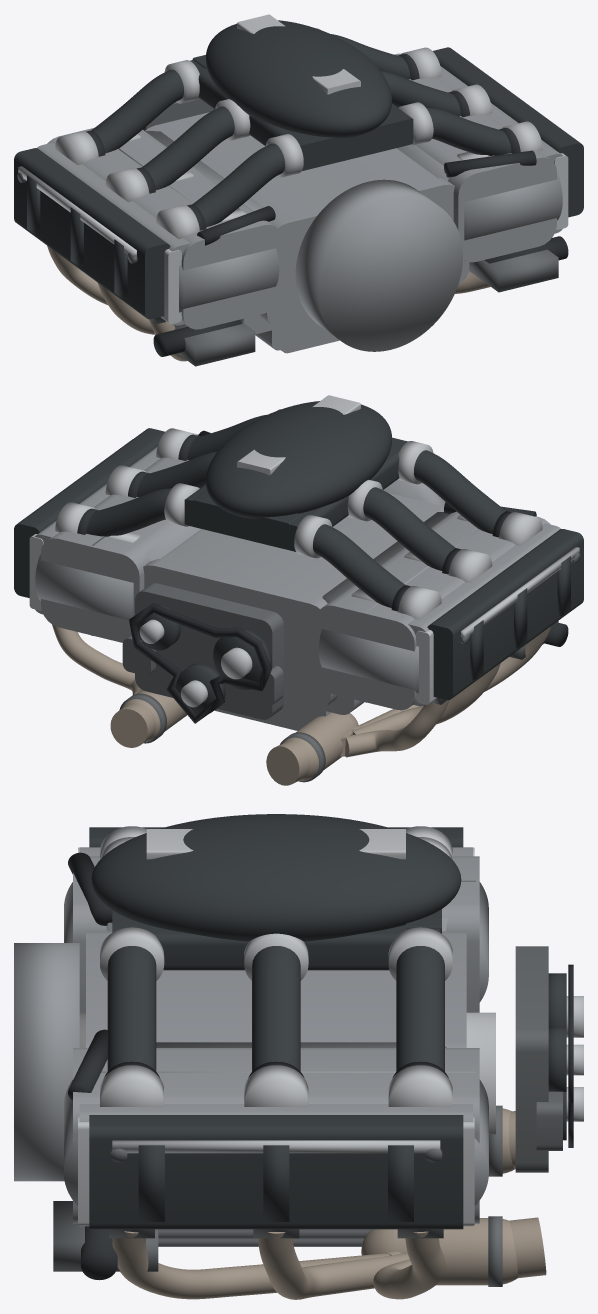
File: engine.glb
The picture shows the model from 3 angles, top to bottom: view 1: azimuth 30°, elevation 25°; view 2: azimuth 150°, elevation 25°; view 3: azimuth 270°, elevation 25°; orthographic projection. The views are drawn at different scales.
Parts seen in each view (by area): view 1: Intake, Crankcase__flywheel_housing, Intake__plenum_shell, Crankcase__main_case, Cover_R__main_cover, Bank_R__water_jacket, Bank_L__water_jacket, Intake__plenum_lower_bridge, Mounts, Cover_L__main_cover, Bank_R, Bank_L (+16 smaller); view 2: Intake, Crankcase__main_case, Intake__plenum_shell, Cover_R__main_cover, Bank_R__water_jacket, Accessory_Drive__rear_plate, Bank_L__water_jacket, Accessory_Drive, Headers_R, Cover_L__main_cover, Bank_R, Bank_L (+22 smaller); view 3: Intake__plenum_shell, Cover_L__main_cover, Intake, Crankcase__main_case, Headers_L, Crankcase__flywheel_housing, Bank_L__water_jacket, Accessory_Drive__rear_plate, Intake__plenum_lower_bridge, Cover_L, Accessory_Drive, Mounts (+18 smaller).
Part boxes in pixels (bbox=[...]): Intake: bbox=[55, 28, 542, 238]; Crankcase__flywheel_housing: bbox=[295, 179, 462, 351]; Intake__plenum_shell: bbox=[206, 20, 391, 138]; Crankcase__main_case: bbox=[145, 112, 464, 330]; Cover_R__main_cover: bbox=[14, 148, 170, 319]; Bank_R__water_jacket: bbox=[47, 127, 281, 329]; Bank_L__water_jacket: bbox=[394, 53, 556, 262]; Intake__plenum_lower_bridge: bbox=[190, 60, 413, 170]; Mounts: bbox=[444, 150, 568, 292]; Cover_L__main_cover: bbox=[433, 47, 583, 217]; Bank_R: bbox=[129, 134, 279, 312]; Bank_L: bbox=[457, 152, 562, 240]; Intake: bbox=[55, 409, 542, 619]; Crankcase__main_case: bbox=[143, 493, 443, 711]; Intake__plenum_shell: bbox=[206, 401, 391, 518]; Cover_R__main_cover: bbox=[427, 529, 583, 700]; Bank_R__water_jacket: bbox=[316, 511, 550, 710]; Accessory_Drive__rear_plate: bbox=[135, 583, 283, 719]; Bank_L__water_jacket: bbox=[41, 434, 198, 642]; Accessory_Drive: bbox=[122, 604, 272, 713]; Headers_R: bbox=[340, 626, 550, 757]; Cover_L__main_cover: bbox=[14, 428, 164, 597]; Bank_R: bbox=[318, 515, 468, 693]; Bank_L: bbox=[35, 532, 140, 619]; Intake__plenum_shell: bbox=[91, 814, 461, 941]; Cover_L__main_cover: bbox=[89, 1115, 463, 1229]; Intake: bbox=[100, 826, 452, 1106]; Crankcase__main_case: bbox=[86, 931, 466, 1047]; Headers_L: bbox=[109, 1229, 445, 1299]; Crankcase__flywheel_housing: bbox=[14, 943, 79, 1181]; Bank_L__water_jacket: bbox=[73, 1048, 479, 1223]; Accessory_Drive__rear_plate: bbox=[515, 946, 548, 1172]; Intake__plenum_lower_bridge: bbox=[112, 910, 440, 970]; Cover_L: bbox=[110, 1145, 442, 1221]; Accessory_Drive: bbox=[536, 973, 583, 1150]; Mounts: bbox=[53, 1029, 158, 1280].
Bounding box in the file's own units: 1.1 × 0.65 × 0.85.
